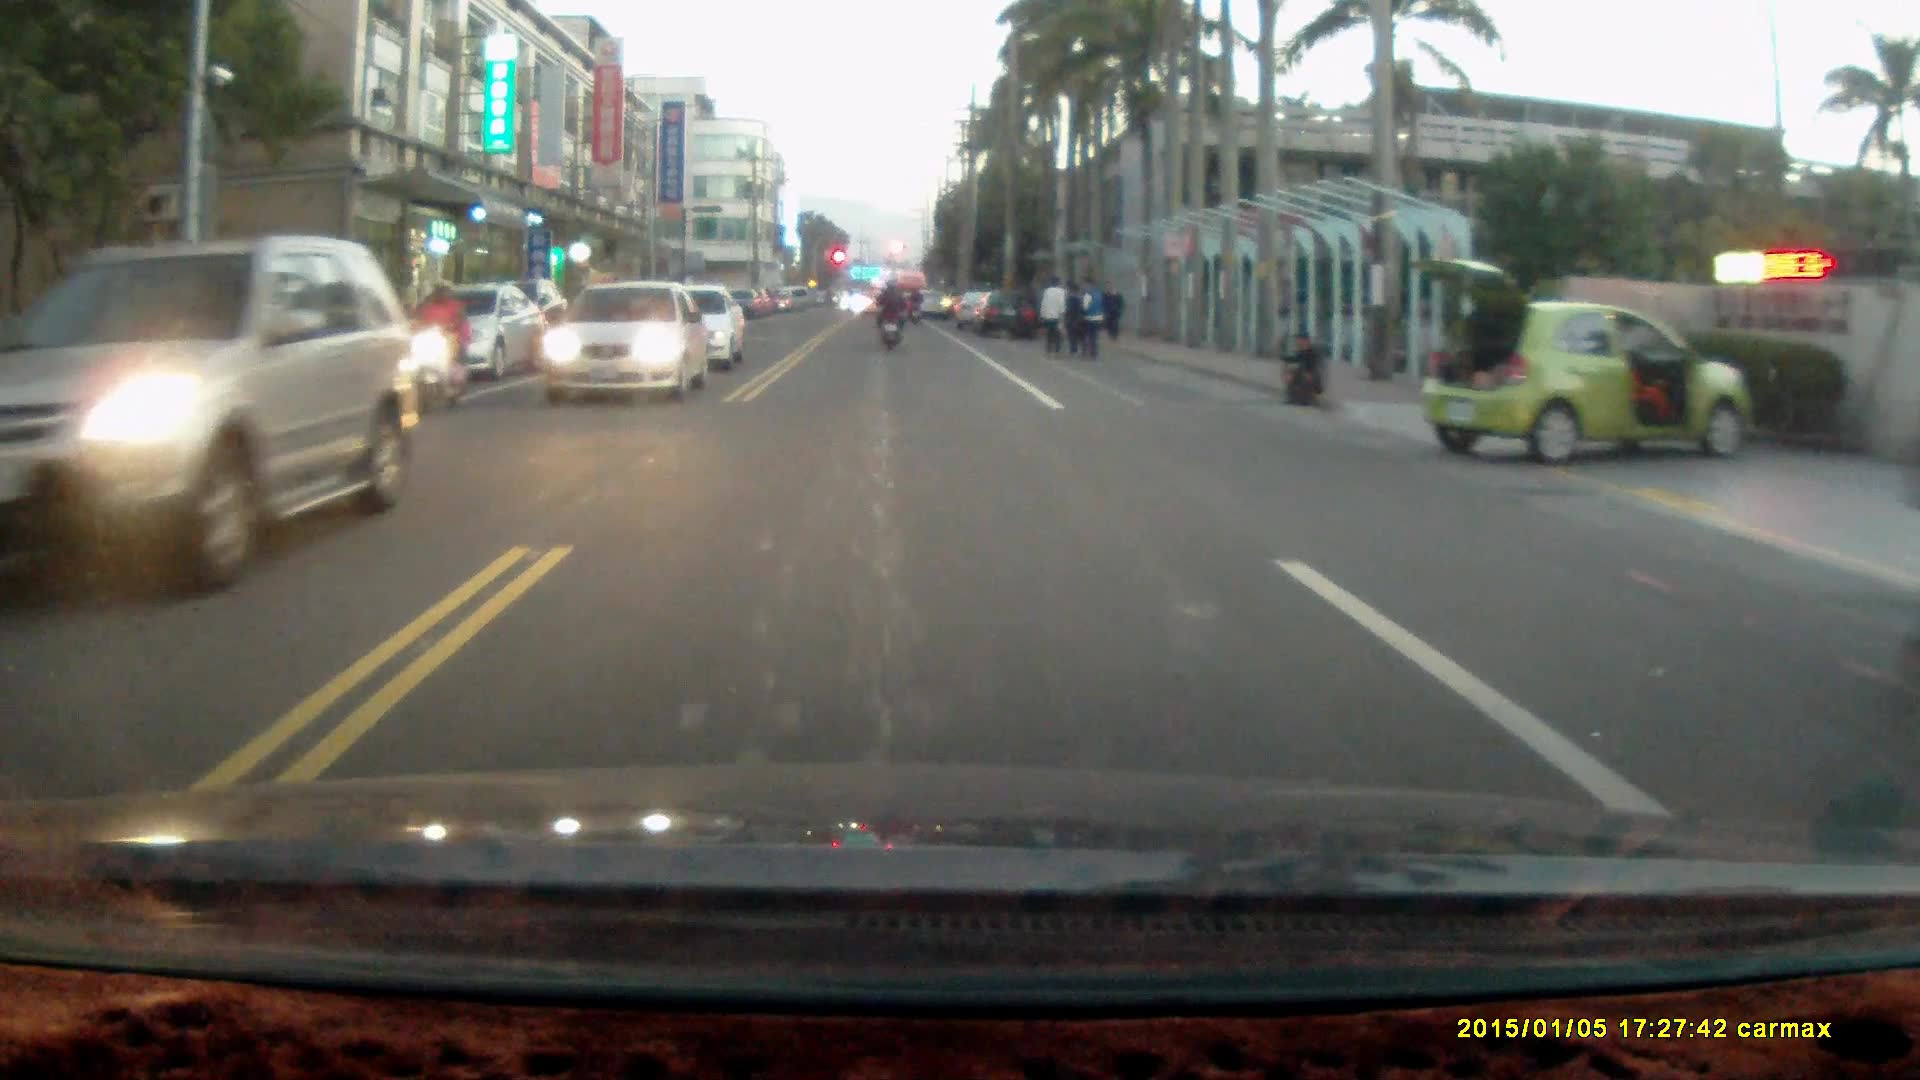pedestrian: (1276, 329, 1329, 409), (1069, 275, 1106, 361), (1037, 274, 1065, 361), (1057, 282, 1085, 364), (1100, 278, 1124, 339)
rider: (414, 280, 473, 417), (872, 277, 907, 355)
vehicle: (1, 235, 424, 601), (1411, 258, 1759, 467), (536, 281, 708, 414), (423, 286, 544, 393), (643, 284, 747, 375), (968, 291, 1039, 340)
